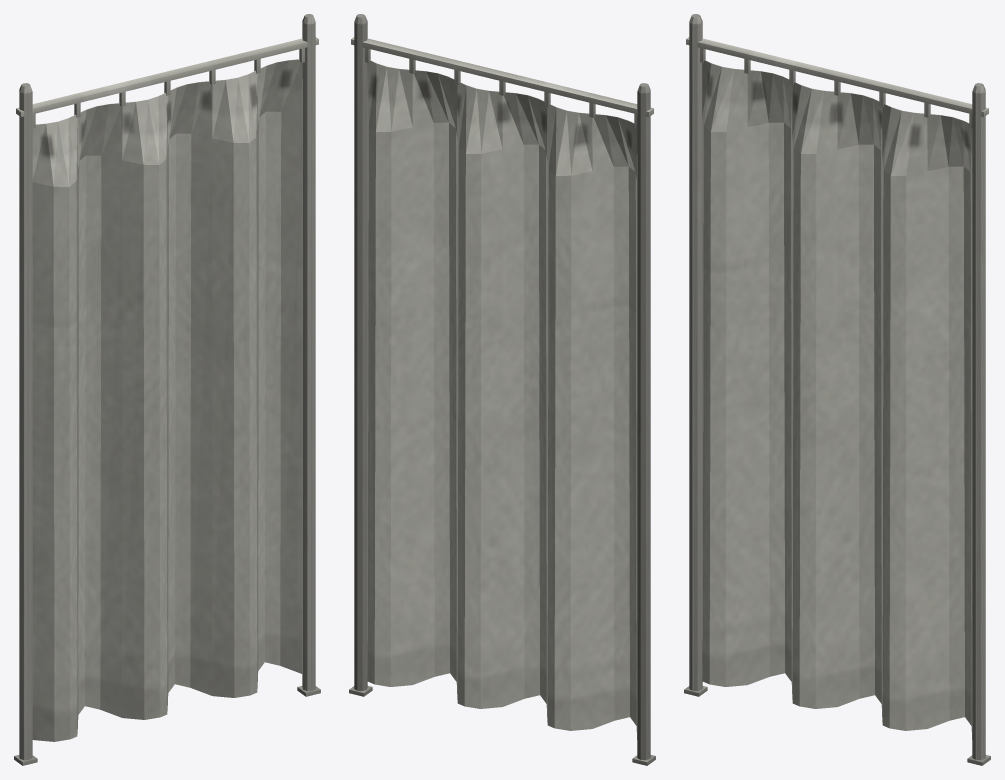
The model's file is pool_curtain_straight.glb.
3 renders of one model, left to right at view 1: azimuth 30°, elevation 25°; view 2: azimuth 150°, elevation 25°; view 3: azimuth 330°, elevation 25°, orthographic.
Parts seen in each view (by area): view 1: core_pool_curtain_straight; view 2: core_pool_curtain_straight; view 3: core_pool_curtain_straight.
Part boxes in pixels (x1,y1,x2,y2): core_pool_curtain_straight: [14, 14, 320, 765]; core_pool_curtain_straight: [349, 14, 655, 765]; core_pool_curtain_straight: [684, 14, 990, 765].
Bounding box in the file's own units: 1.2 × 2.6 × 0.214.
1 material, 1 textured.
